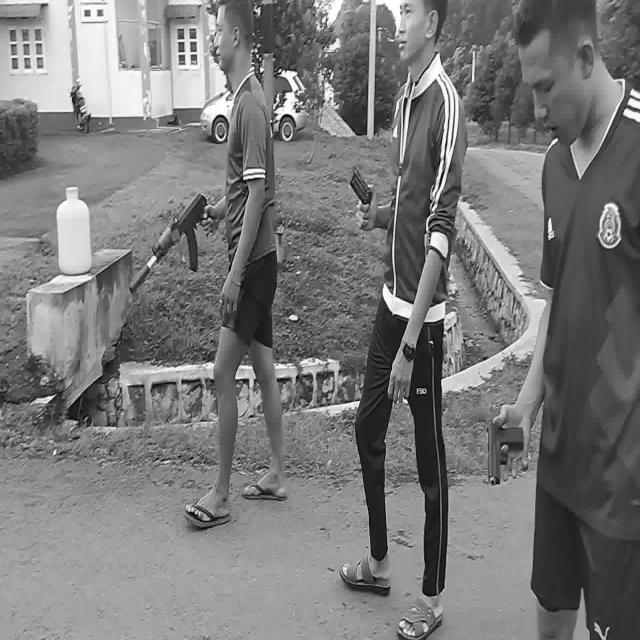gun: (128, 194, 218, 294), (488, 426, 523, 482)
